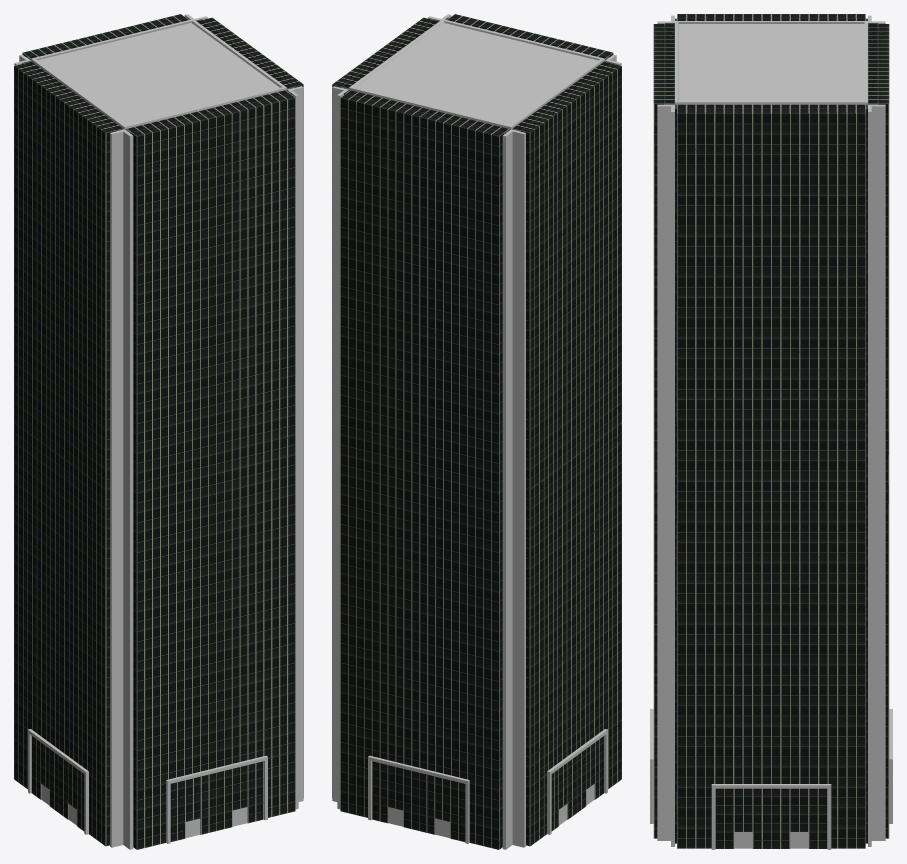
3 renders of one model, left to right at view 1: azimuth 30°, elevation 25°; view 2: azimuth 150°, elevation 25°; view 3: azimuth 270°, elevation 25°, orthographic. The views are drawn at different scales.
Visible parts, largest first — view 1: EC-026; view 2: EC-026; view 3: EC-026.
Boxes of the visible parts, <box> form: EC-026: <box>14,14,303,849</box>; EC-026: <box>332,14,621,849</box>; EC-026: <box>650,14,892,849</box>.
Size of what is drawn, in the model's own units: 32.31 by 108 by 32.33.
